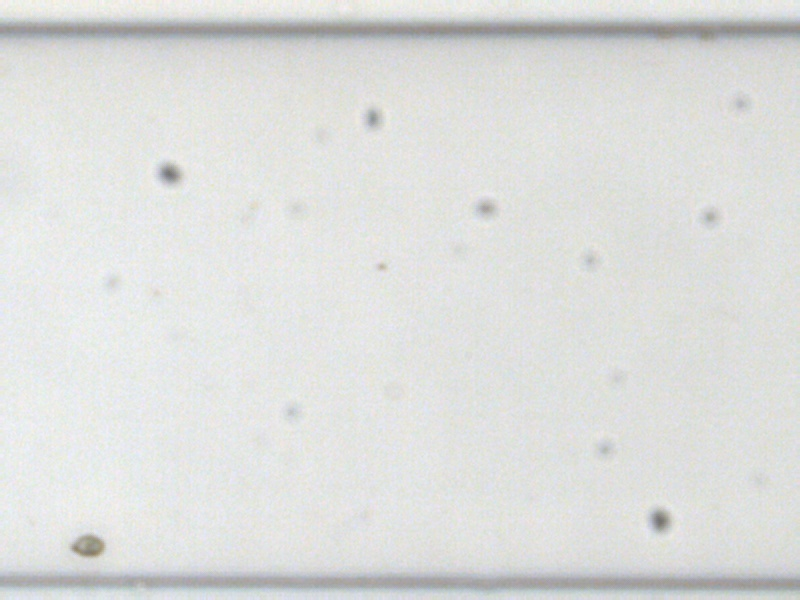Chlorella: (374, 260, 386, 273)
Dunaliella salina: (68, 531, 106, 556)
